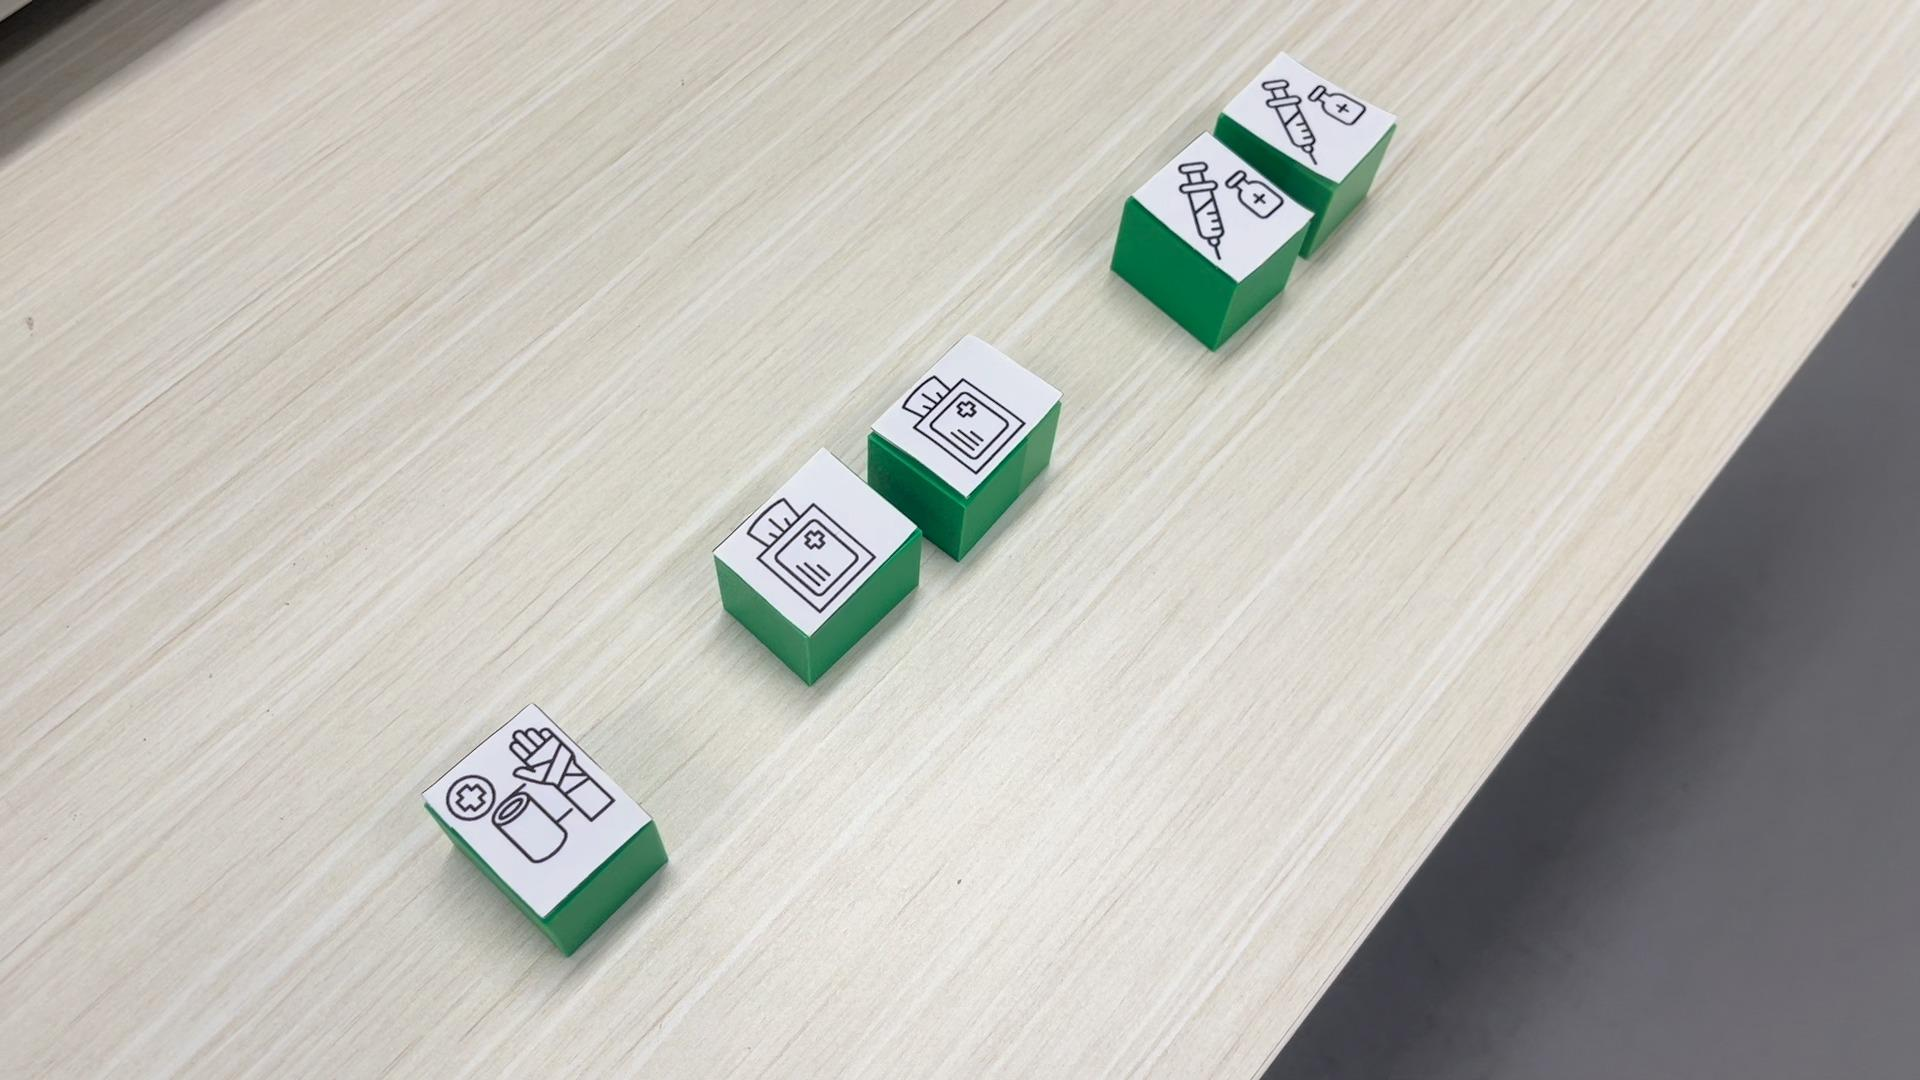Bandages: (413, 705, 667, 957)
Gauze: (709, 444, 924, 687), (866, 334, 1067, 560)
antiseptic cream: (1106, 115, 1331, 349), (1218, 49, 1399, 187)
